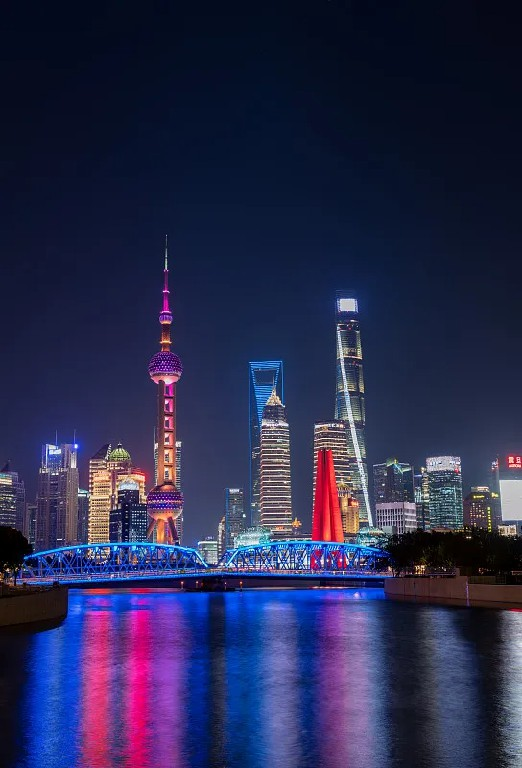Oriental: (147, 233, 184, 548)
